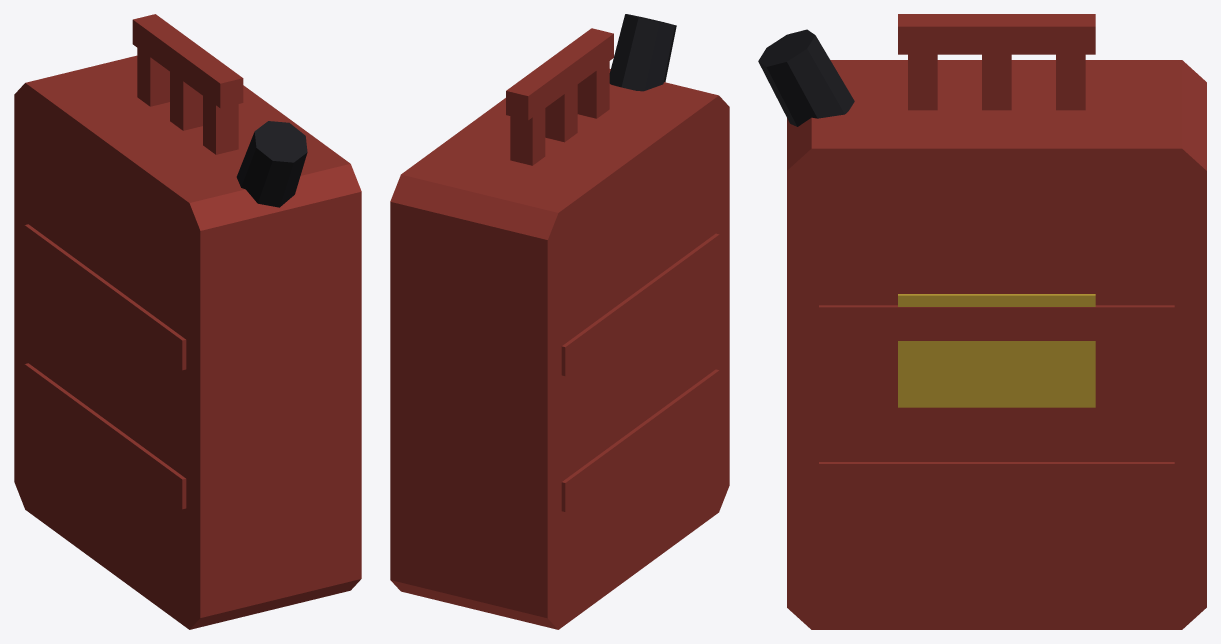
File: jerrycan.glb
3 views of the same model, side by side, from view 1: azimuth 30°, elevation 25°; view 2: azimuth 150°, elevation 25°; view 3: azimuth 270°, elevation 25° (orthographic). The views are drawn at different scales.
Visible parts, largest first — view 1: Item; view 2: Item; view 3: Item.
Part boxes in pixels (x1,y1,x2,y2): Item: [14, 14, 361, 629]; Item: [390, 14, 729, 629]; Item: [758, 14, 1206, 629].
Size of the model in its own units: 0.178 by 0.505 by 0.3633.
